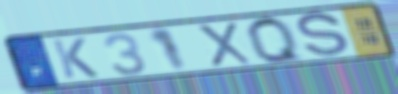1: (147, 25, 191, 73)
3: (102, 32, 148, 76)
K: (49, 36, 102, 81)
Q: (244, 15, 309, 65)
S: (295, 10, 351, 60)
X: (193, 21, 255, 68)
